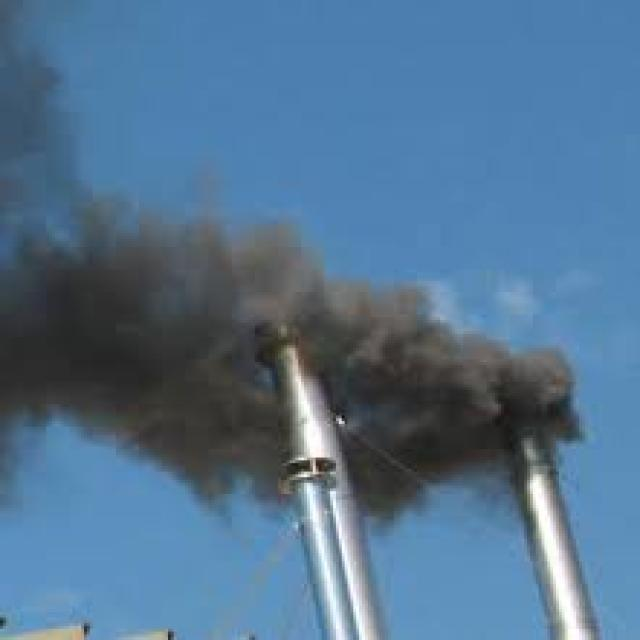Smoke: (0, 0, 588, 539)
